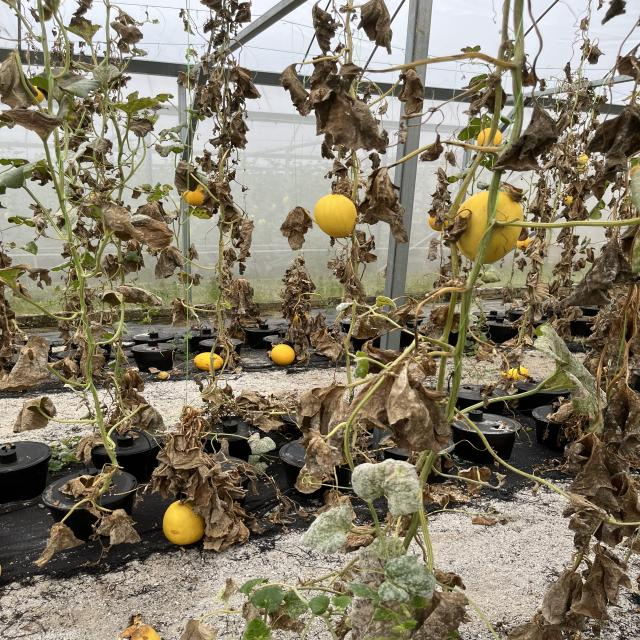bacterial wilt: (558, 240, 640, 308), (311, 88, 387, 156), (391, 364, 449, 452), (572, 544, 632, 621), (497, 101, 554, 175), (588, 106, 640, 184), (101, 202, 173, 252), (362, 171, 410, 244), (579, 438, 629, 502), (1, 334, 52, 392), (415, 591, 470, 640), (542, 569, 586, 630), (586, 318, 626, 381), (155, 433, 212, 476), (152, 468, 220, 503), (298, 434, 340, 490), (34, 521, 84, 567), (300, 388, 351, 433), (0, 51, 36, 108), (359, 0, 394, 54), (605, 387, 640, 440), (563, 498, 600, 547), (508, 608, 562, 640), (224, 278, 259, 325), (98, 508, 141, 546), (13, 396, 58, 432), (282, 63, 312, 117), (278, 206, 312, 252), (328, 256, 366, 297), (0, 108, 62, 132), (192, 491, 244, 519), (310, 3, 336, 55), (398, 68, 426, 116), (213, 182, 242, 223), (154, 246, 185, 280), (117, 285, 163, 307), (131, 404, 168, 431), (231, 67, 261, 100), (77, 432, 105, 463), (175, 161, 200, 195), (120, 369, 144, 404), (234, 389, 270, 411), (172, 298, 196, 330), (243, 411, 282, 430), (230, 116, 249, 148)
powdery mildew: (352, 458, 422, 514), (299, 506, 352, 554), (248, 432, 276, 454)
